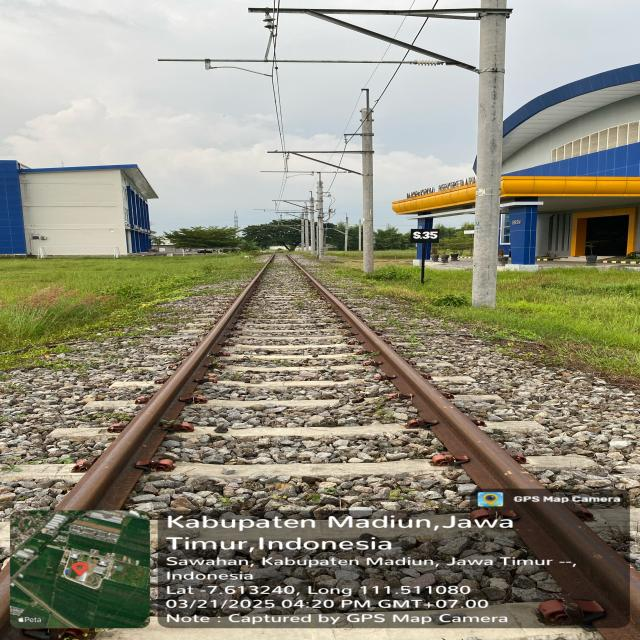rail-detection: (288, 256, 535, 489), (56, 267, 265, 510), (600, 577, 623, 607), (580, 557, 613, 577)
